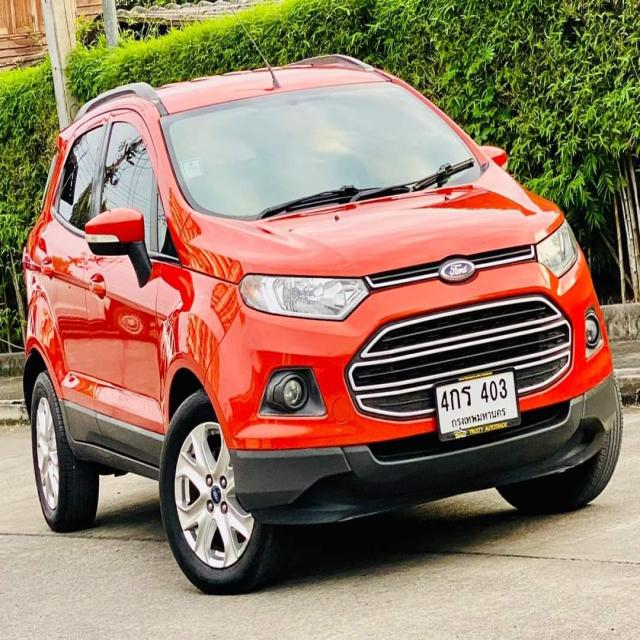license_plate: (429, 363, 524, 448)
